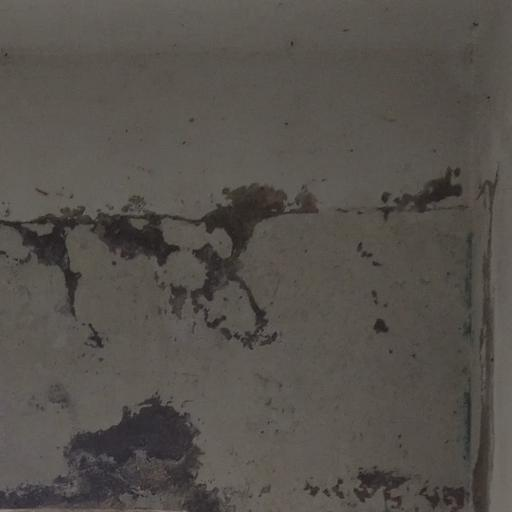peeling: (1, 163, 512, 512)
